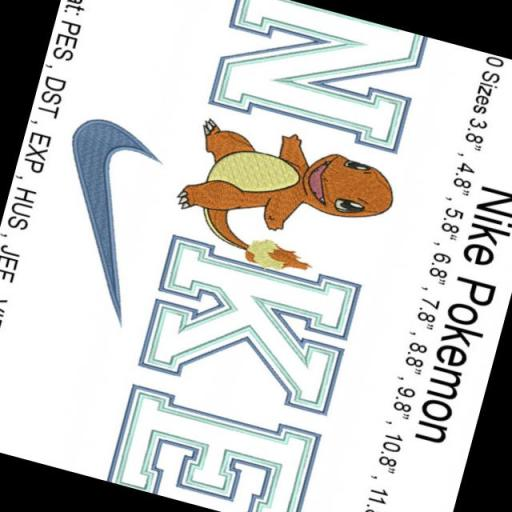Nike: (25, 110, 174, 324)
